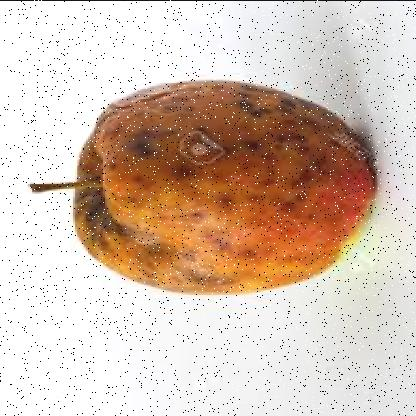damaged_apple: (75, 78, 373, 296)
